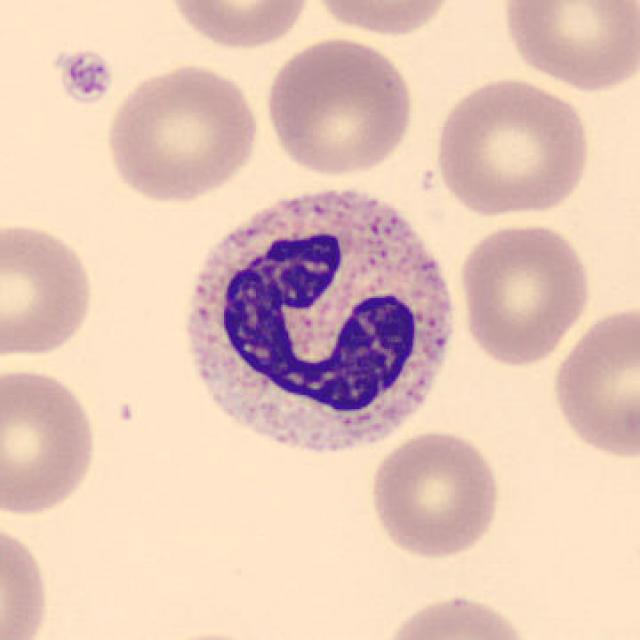Neutrophil: (165, 171, 468, 476)
Platelets: (51, 46, 116, 107)
RBC: (430, 74, 594, 220), (101, 60, 263, 206), (261, 33, 418, 180), (455, 218, 594, 368), (366, 426, 505, 560), (0, 365, 101, 520), (547, 300, 640, 462), (0, 217, 98, 361), (497, 0, 638, 93), (377, 590, 535, 640), (163, 0, 314, 51), (0, 518, 53, 639), (308, 0, 462, 39)
